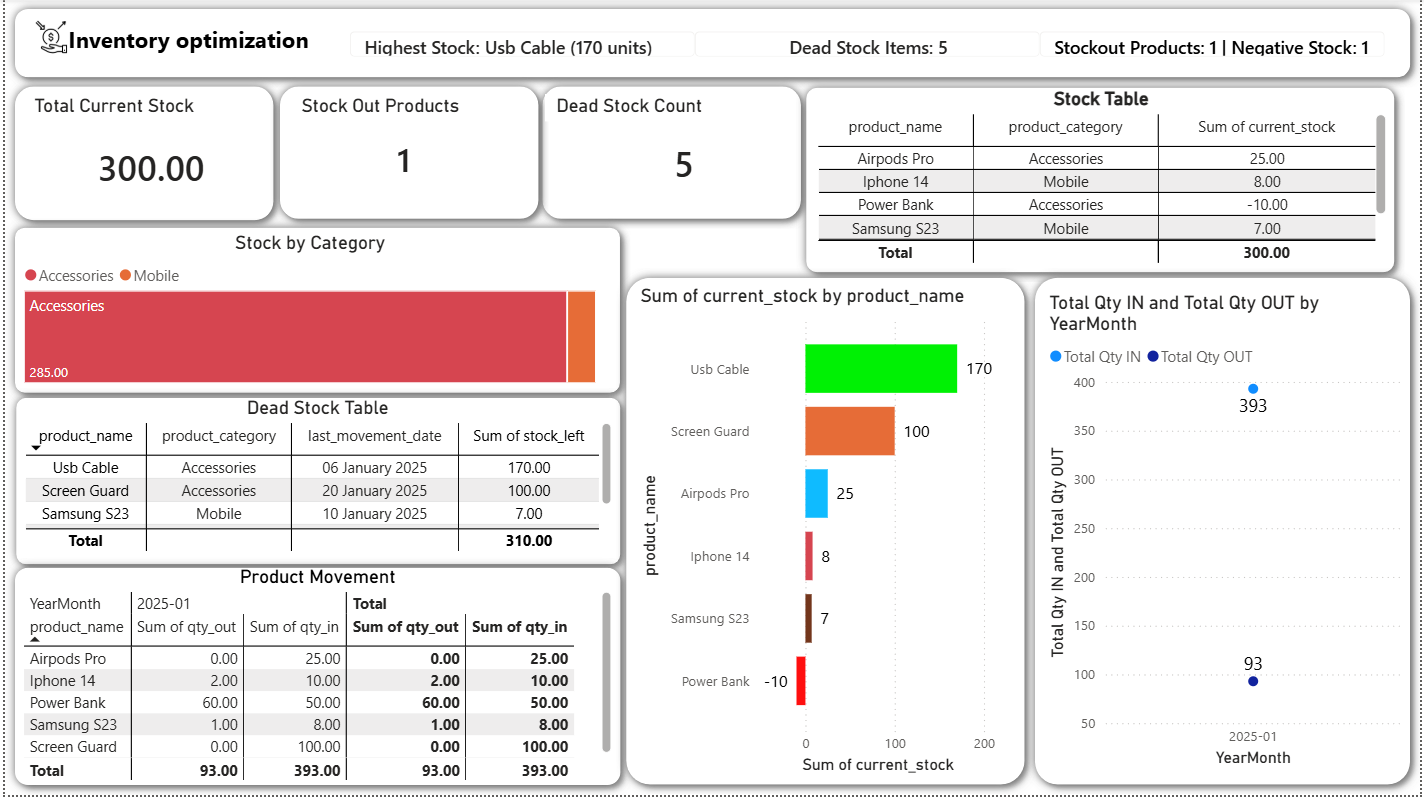

The page's visual inventory and layout, read from the dashboard file:
{"tool":"powerbi","page":{"name":"Page 3","canvas":[1280,720],"ordinal":2},"visuals":[{"type":"shape","box":[0,0,1280,79.8],"z":0},{"type":"shape","box":[0,313,295.3,46.9],"z":1000},{"type":"shape","box":[0,70,251.8,138.9],"z":2000},{"type":"shape","box":[477.6,70,251.8,137.7],"z":3000},{"type":"shape","box":[239.4,70,251.8,137.7],"z":4000},{"type":"cardVisual","fields":{"Data":["DimDate.Total Current Stock"]},"box":[44.7,107,165,88.1],"z":5000},{"type":"textbox","title":"Total Current Stock","box":[12.4,86,172.4,24.8],"z":6000},{"type":"textbox","title":"Stock Out Products","box":[260.5,86,158.8,24.8],"z":7000},{"type":"textbox","title":"Dead Stock Count","box":[488.8,86,152.6,24.8],"z":8000},{"type":"cardVisual","fields":{"Data":["DimDate.Stock Out Products"]},"box":[314.3,107,105.2,77.3],"z":9000},{"type":"cardVisual","fields":{"Data":["DimDate.Dead Stock Count"]},"box":[565.7,107,150.1,83.1],"z":10000},{"type":"shape","box":[0,197.7,565.2,167.3],"z":11000},{"type":"treemap","title":"Stock by Category","fields":{"Group":["bi_suite vw_current_stock.product_category"],"Values":["Sum(bi_suite vw_current_stock.current_stock)"]},"box":[12.7,210.4,527.2,141.9],"z":12000},{"type":"shape","box":[1.2,351.1,564.5,168.7],"z":13000},{"type":"shape","box":[0,504.9,565.7,214.6],"z":14000},{"type":"shape","box":[716,71,550,185],"z":15000},{"type":"tableEx","title":"Dead Stock Table","fields":{"Values":["bi_suite vw_dead_stock.product_name","bi_suite vw_dead_stock.product_category","bi_suite vw_dead_stock.last_movement_date","Sum(bi_suite vw_dead_stock.stock_left)"]},"box":[12.4,359.8,540.9,145.1],"z":16000},{"type":"pivotTable","title":"Product Movement","fields":{"Rows":["bi_suite vw_inventory_movement_monthly.product_name"],"Values":["Sum(bi_suite vw_inventory_movement_monthly.qty_out)","Sum(bi_suite vw_inventory_movement_monthly.qty_in)"],"Columns":["DimMonth.YearMonth"]},"box":[12.4,512.3,540.9,199.7],"z":17000},{"type":"shape","box":[553.3,243.1,378.4,476.4],"z":18000},{"type":"tableEx","title":"Stock Table","fields":{"Values":["bi_suite vw_current_stock.product_name","bi_suite vw_current_stock.product_category","Sum(bi_suite vw_current_stock.current_stock)"]},"box":[728.7,79.8,524.7,163.5],"z":19000},{"type":"clusteredBarChart","fields":{"Category":["bi_suite vw_current_stock.product_name"],"Y":["Sum(bi_suite vw_current_stock.current_stock)"]},"box":[569.4,258,342.4,447.8],"z":20000},{"type":"shape","box":[923,243.1,357.3,476.4],"z":21000},{"type":"lineChart","fields":{"Category":["DimMonth.YearMonth"],"Y":["DimDate.Total Qty IN","DimDate.Total Qty OUT"]},"box":[939.1,264.2,327.5,434.2],"z":22000},{"type":"image","box":[12.7,19,59.6,30.4],"z":23000},{"type":"cardVisual","fields":{"Data":["_Measures.Inventory Insight 1","_Measures.Inventory Insight 2","_Measures.Inventory Insight 3"]},"box":[295.3,12.7,970.8,57],"z":24000},{"type":"shape","box":[57,12.7,219.2,46.9],"z":25000}]}

Visuals, with their boxes in screenshot pixels (x1, y1, x2, y2), scaled from the page's 1280x720 canvas onto the 1424x802 screenshot:
shape: pyautogui.locateOnScreen(0, 0, 1423, 89)
shape: pyautogui.locateOnScreen(0, 349, 329, 401)
shape: pyautogui.locateOnScreen(0, 78, 280, 233)
shape: pyautogui.locateOnScreen(531, 78, 811, 231)
shape: pyautogui.locateOnScreen(266, 78, 546, 231)
cardVisual - DimDate.Total Current Stock: pyautogui.locateOnScreen(50, 119, 233, 217)
"Total Current Stock" textbox: pyautogui.locateOnScreen(14, 96, 206, 123)
"Stock Out Products" textbox: pyautogui.locateOnScreen(290, 96, 466, 123)
"Dead Stock Count" textbox: pyautogui.locateOnScreen(544, 96, 714, 123)
cardVisual - DimDate.Stock Out Products: pyautogui.locateOnScreen(350, 119, 467, 205)
cardVisual - DimDate.Dead Stock Count: pyautogui.locateOnScreen(629, 119, 796, 212)
shape: pyautogui.locateOnScreen(0, 220, 629, 407)
"Stock by Category" treemap: pyautogui.locateOnScreen(14, 234, 601, 392)
shape: pyautogui.locateOnScreen(1, 391, 629, 579)
shape: pyautogui.locateOnScreen(0, 562, 629, 801)
shape: pyautogui.locateOnScreen(797, 79, 1408, 285)
"Dead Stock Table" tableEx: pyautogui.locateOnScreen(14, 401, 616, 562)
"Product Movement" pivotTable: pyautogui.locateOnScreen(14, 571, 616, 793)
shape: pyautogui.locateOnScreen(616, 271, 1037, 801)
"Stock Table" tableEx: pyautogui.locateOnScreen(811, 89, 1394, 271)
clusteredBarChart - bi_suite vw_current_stock.product_name x Sum(bi_suite vw_current_stock.current_stock): pyautogui.locateOnScreen(633, 287, 1014, 786)
shape: pyautogui.locateOnScreen(1027, 271, 1423, 801)
lineChart - DimMonth.YearMonth x DimDate.Total Qty IN: pyautogui.locateOnScreen(1045, 294, 1409, 778)
image: pyautogui.locateOnScreen(14, 21, 80, 55)
cardVisual - _Measures.Inventory Insight 1 x _Measures.Inventory Insight 2: pyautogui.locateOnScreen(329, 14, 1409, 78)
shape: pyautogui.locateOnScreen(63, 14, 307, 66)
